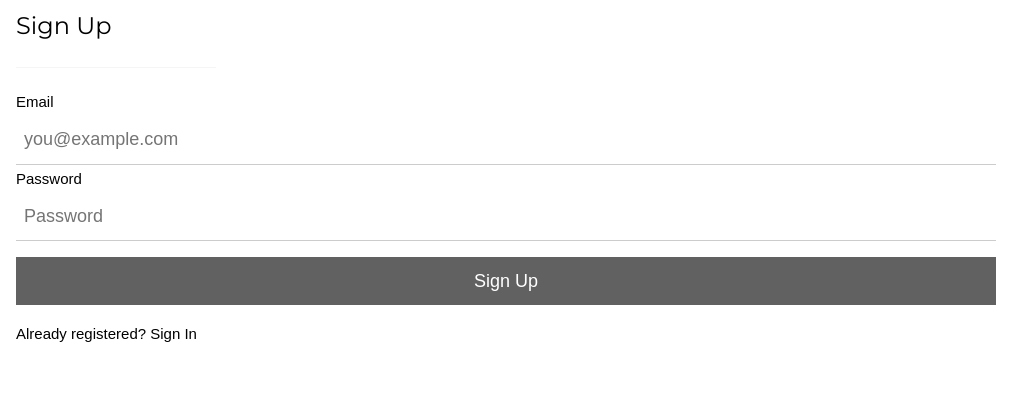
Test: Signup › should show signup failed error when signUp returns an error
Step 1. Type "existing@example.com" into the field labelled "Email" → (506, 140), box [16, 115, 996, 165]
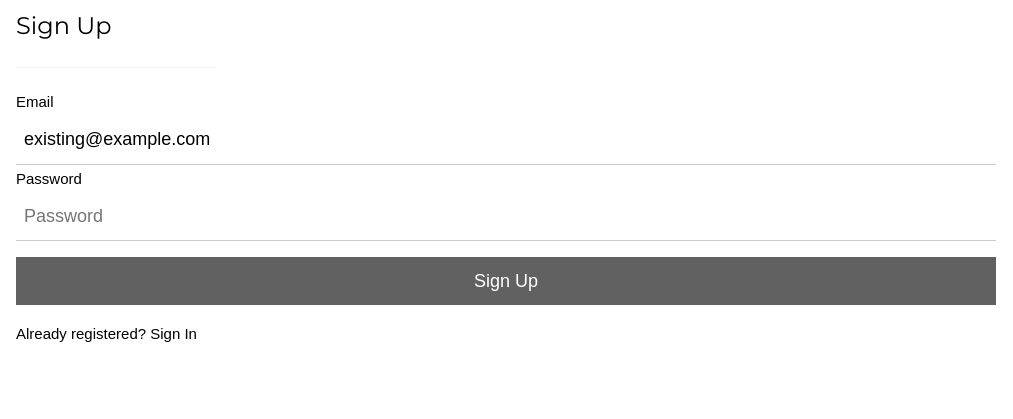
Step 2. Type "password123" into the password field labelled "Password" → (506, 216), box [16, 192, 996, 241]
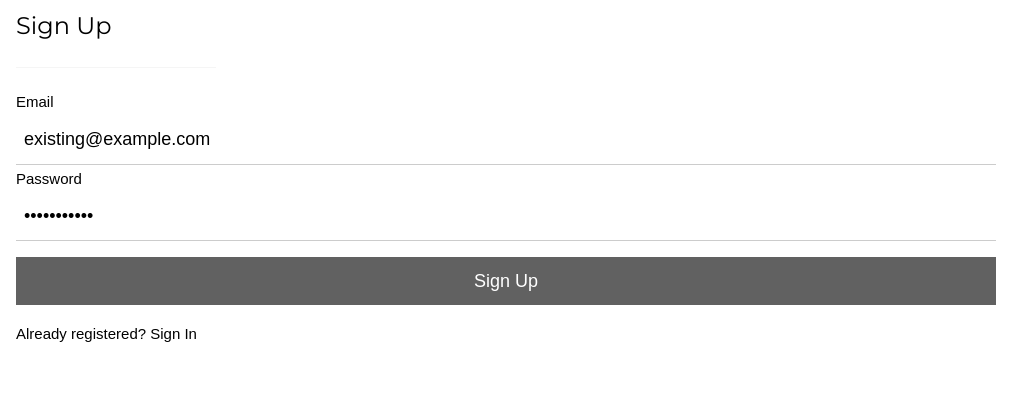
Step 3. Click the button "Sign Up" → (506, 281), box [16, 257, 996, 305]
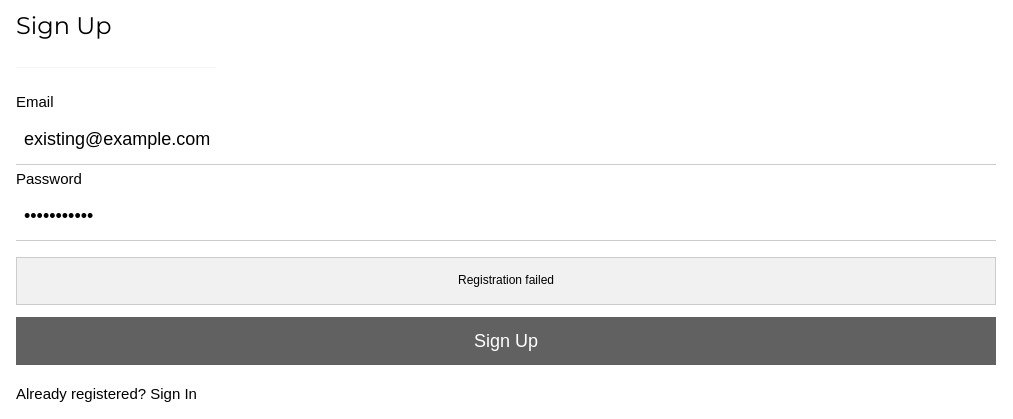
Now the message reads "Registration failed", box [458, 273, 554, 287]
